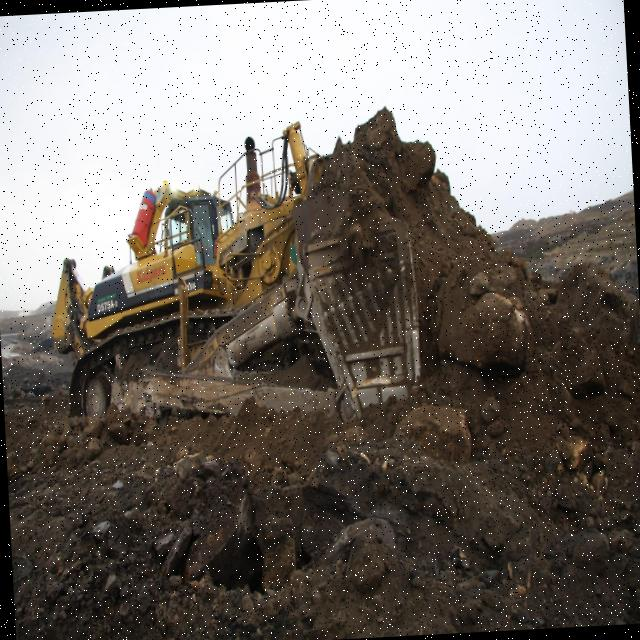Bulldozer: (24, 94, 452, 495)
